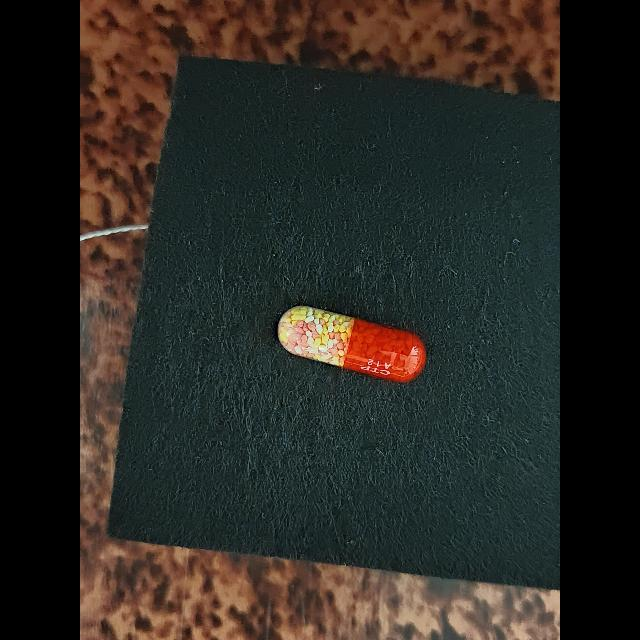Intact Capsule: (278, 306, 426, 382)
